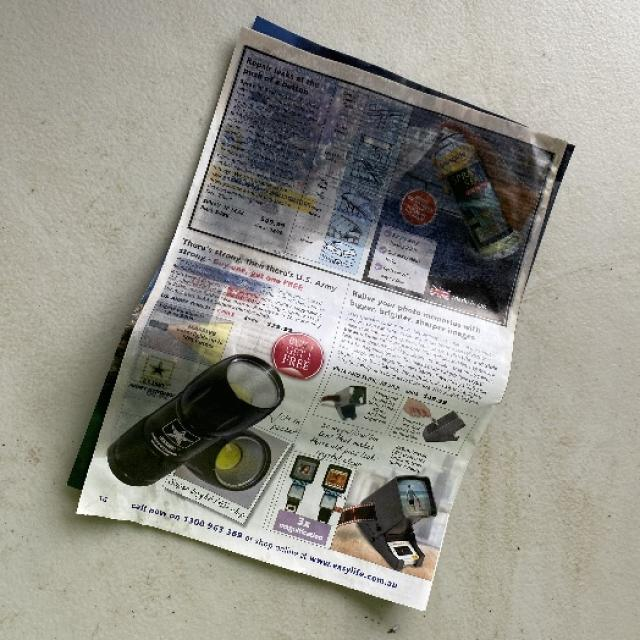paper: (69, 18, 572, 611)
